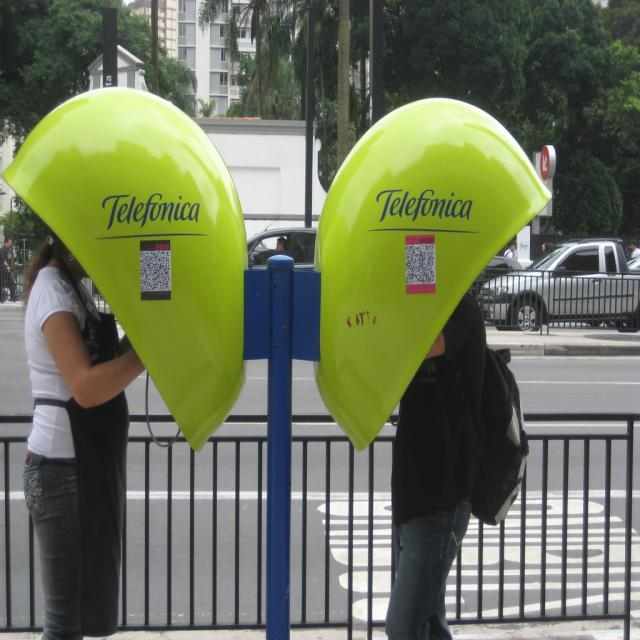qr-code: (140, 250, 170, 290), (406, 245, 434, 283)
